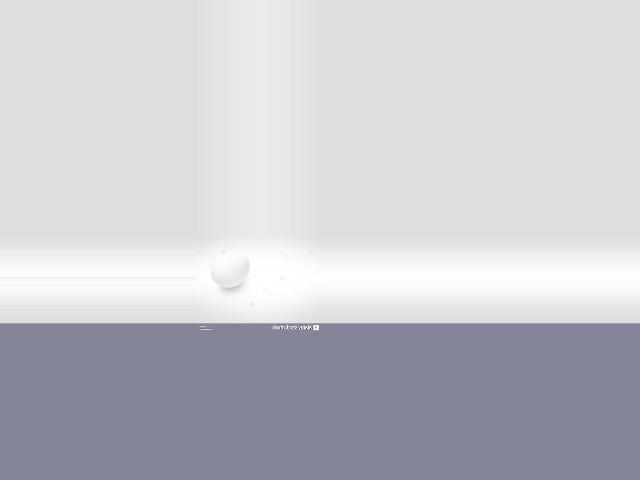egg: (209, 252, 248, 288)
